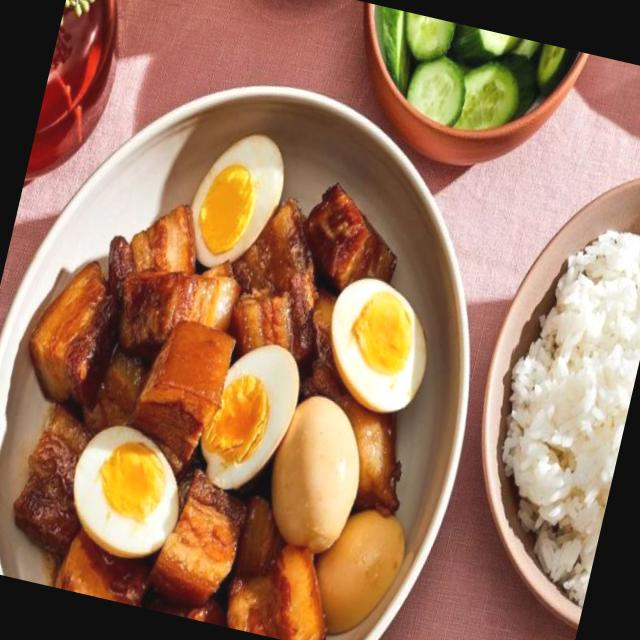com: (502, 230, 640, 605)
dua leo: (375, 5, 566, 130)
kho trung: (14, 135, 425, 640)
